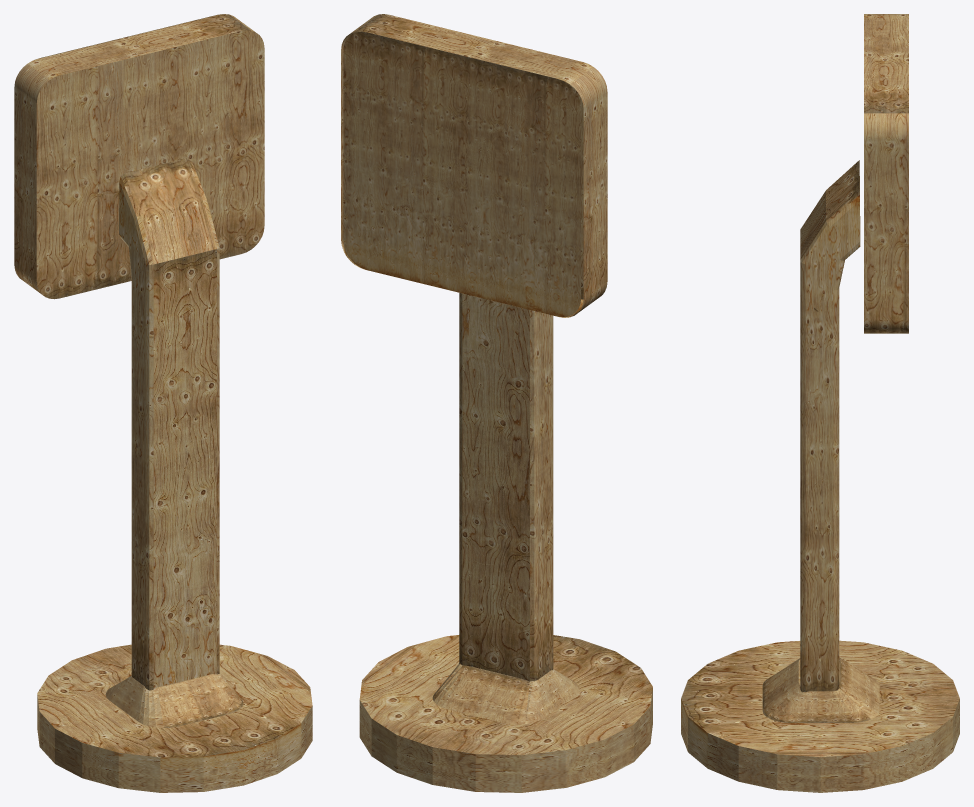
File: assistant.fbx
3 views of the same model, side by side, from view 1: azimuth 30°, elevation 25°; view 2: azimuth 150°, elevation 25°; view 3: azimuth 270°, elevation 25° (orthographic). The views are drawn at different scales.
Visible parts, largest first — view 1: pCylinder16, polySurface9; view 2: pCylinder16, polySurface10, polySurface9; view 3: pCylinder16, polySurface9.
Part boxes in pixels (<box>): pCylinder16: <box>37,158,312,792</box>; polySurface9: <box>14,14,264,299</box>; pCylinder16: <box>359,293,652,792</box>; polySurface10: <box>343,31,580,317</box>; polySurface9: <box>341,14,607,317</box>; pCylinder16: <box>681,160,959,792</box>; polySurface9: <box>864,14,908,333</box>.
Size of the model in its own units: 0.8488 by 2.26 by 0.8488.
